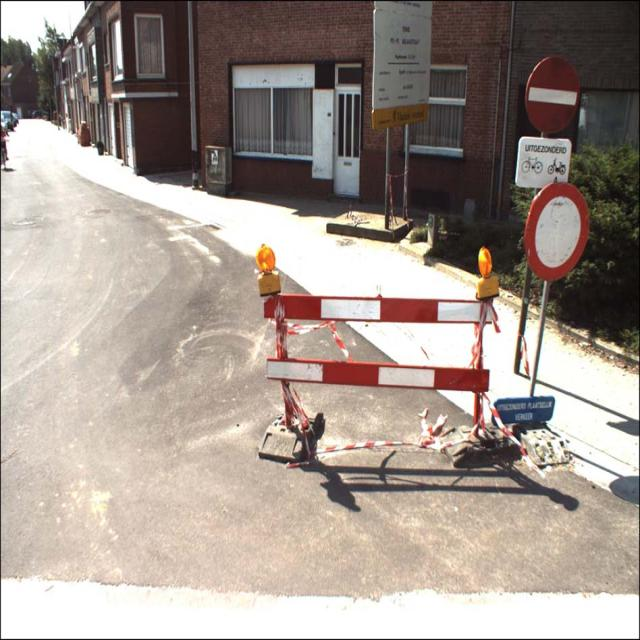girisyok: (524, 56, 580, 134)
